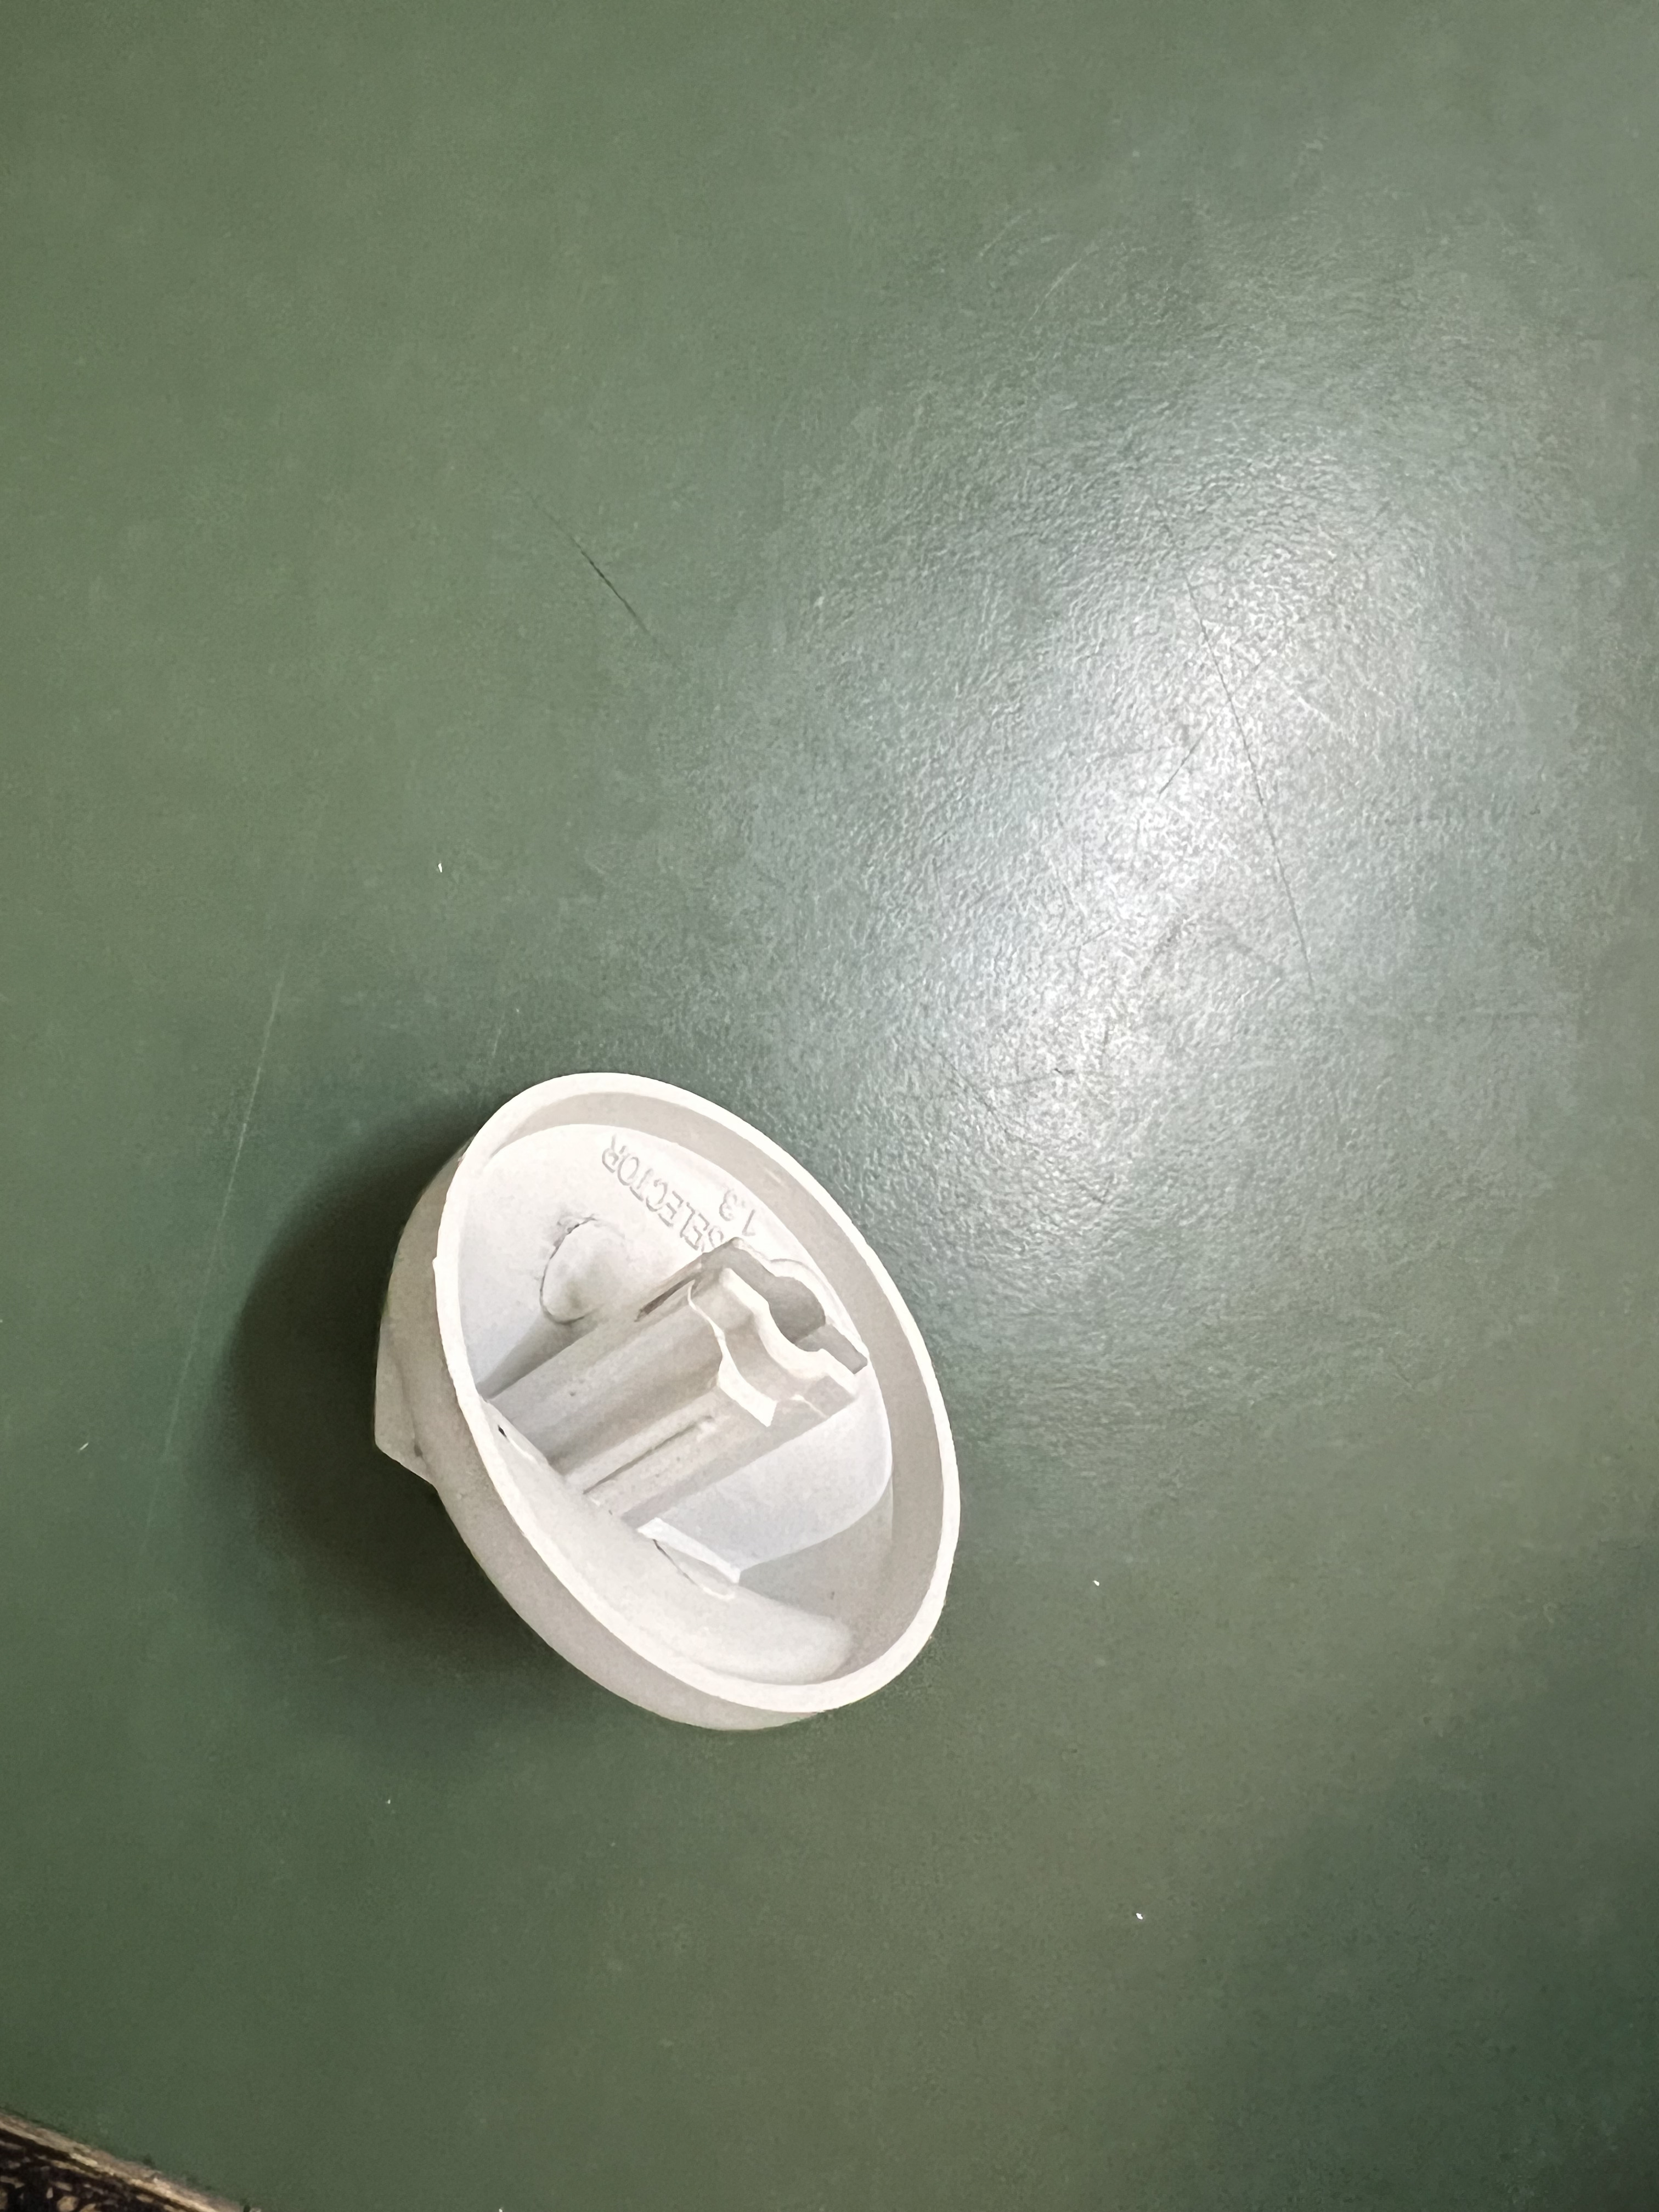regulator: (394, 1012, 958, 1728)
